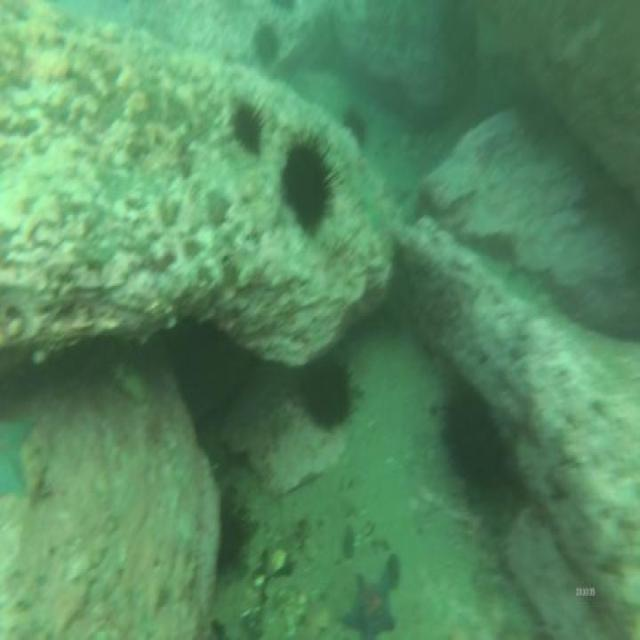echinus: (436, 376, 512, 504), (281, 128, 343, 243), (295, 346, 364, 439), (217, 490, 266, 585), (227, 89, 273, 158), (255, 17, 280, 70)
starfish: (345, 567, 398, 640), (0, 412, 37, 505)
